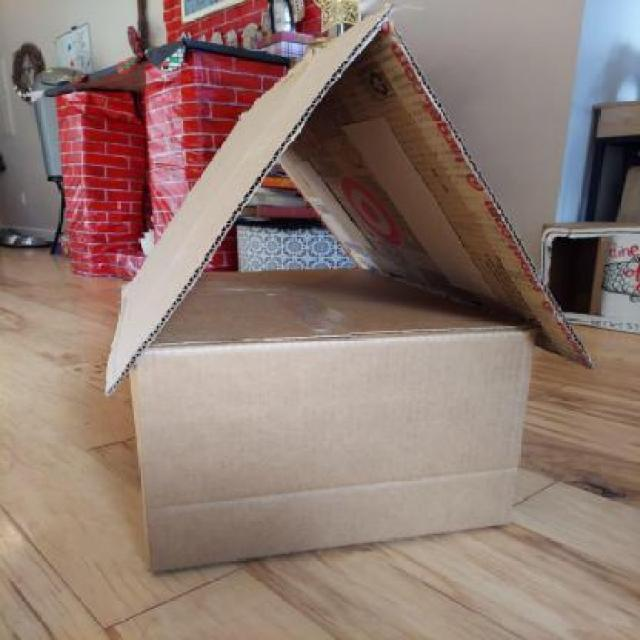box: (128, 266, 538, 584)
